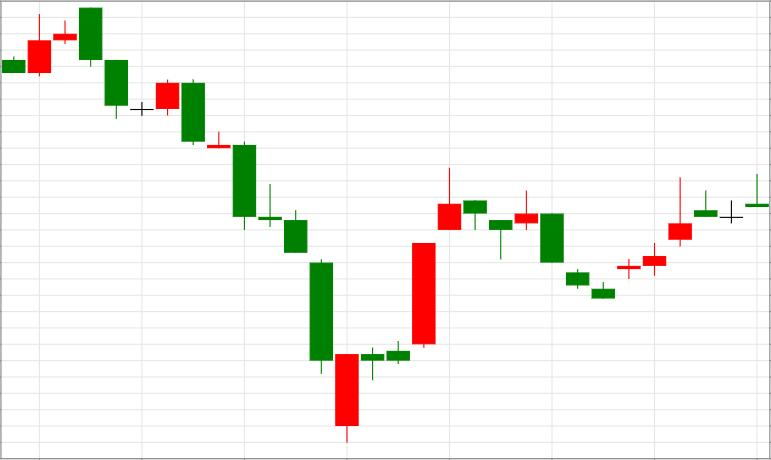shooting_star_fall: (336, 166, 461, 443)
